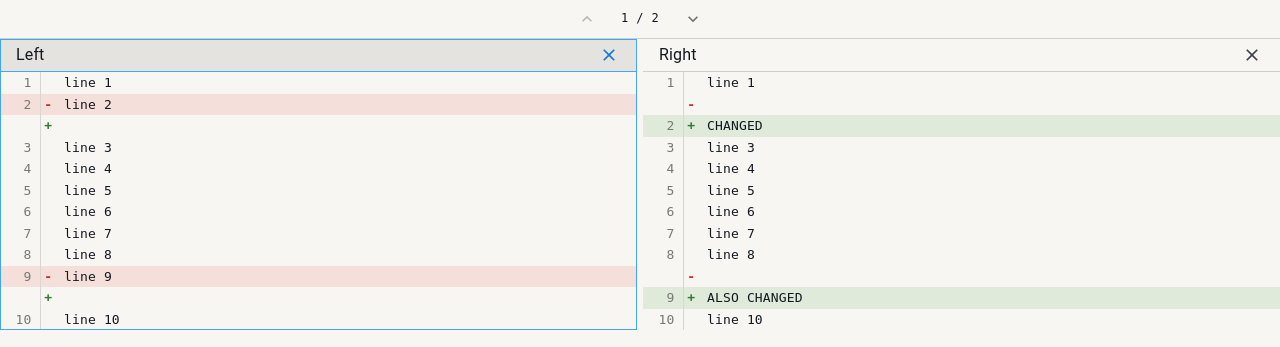
DiffCodeViewer › arrow navigation › should navigate back to previous change when clicking up arrow
Click the button with test id "KeyboardArrowDownIcon": (693, 19) [678, 4, 708, 34]
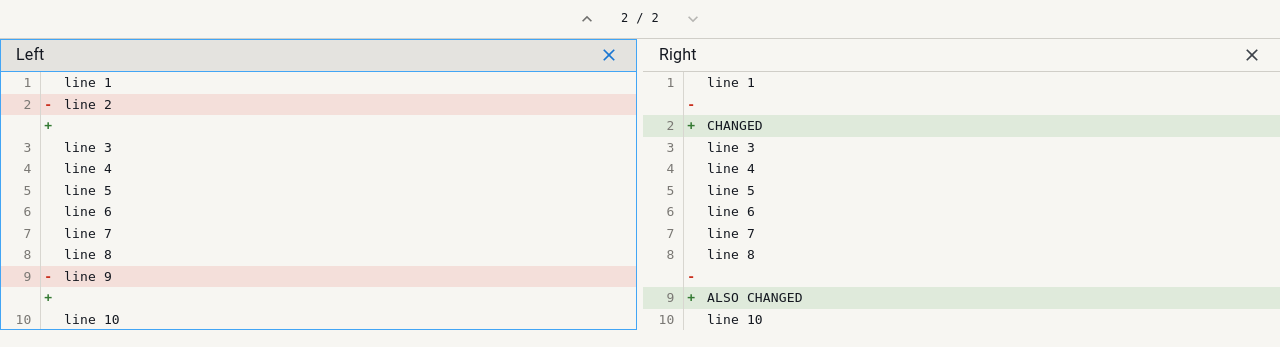
Expected: the text "2 / 2" is shown, [621, 11, 659, 25]
Click the button with test id "KeyboardArrowUpIcon": (587, 19) [572, 4, 602, 34]
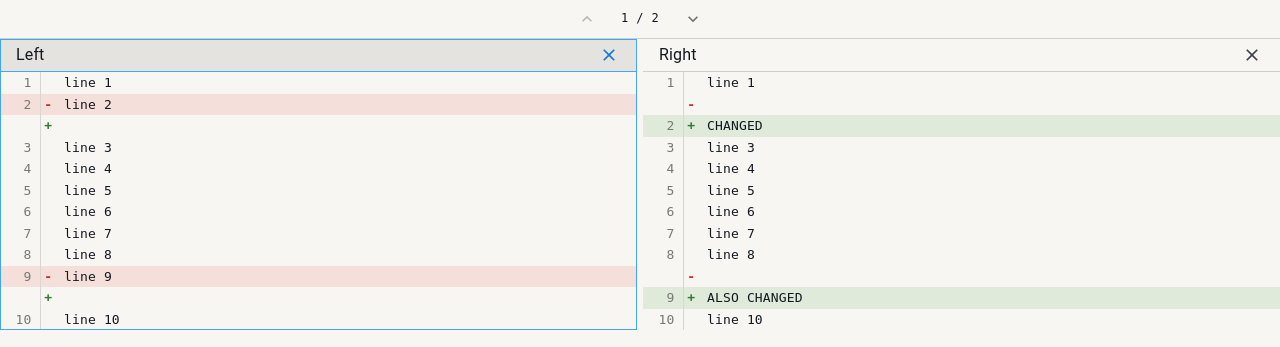
Expected: the text "1 / 2" is shown, [621, 11, 659, 25]
